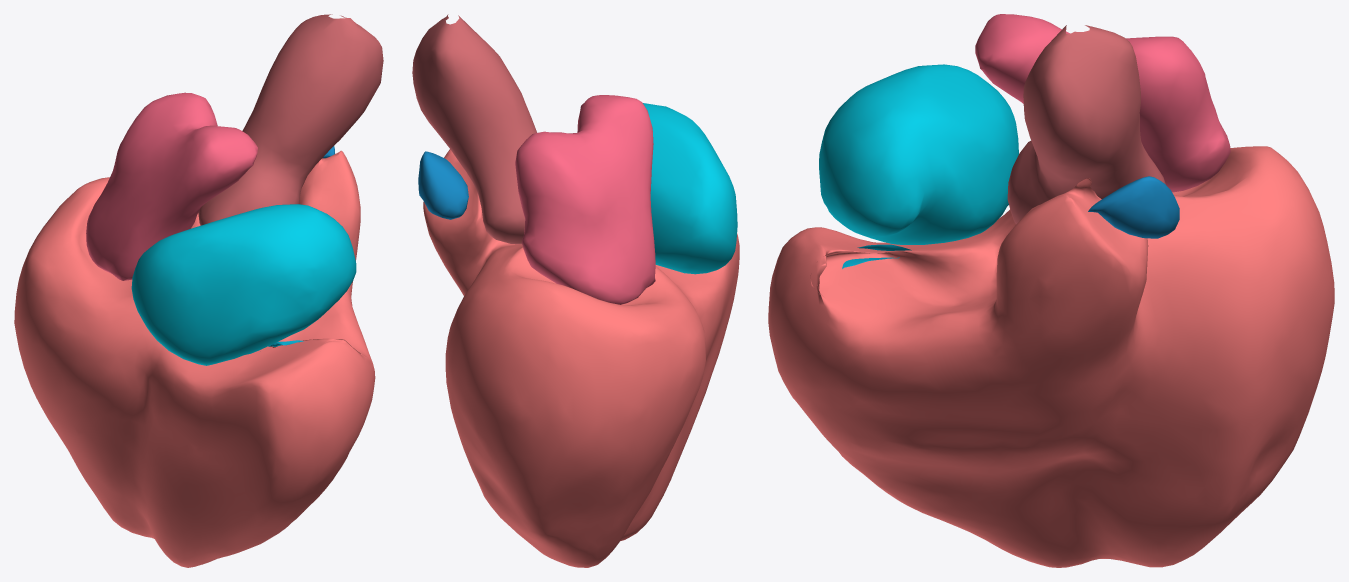
The model's file is frame_47.glb.
3 renders of one model, left to right at view 1: azimuth 30°, elevation 25°; view 2: azimuth 150°, elevation 25°; view 3: azimuth 270°, elevation 25°, orthographic. The views are drawn at different scales.
Parts seen in each view (by area): view 1: Renderer Node; view 2: Renderer Node; view 3: Renderer Node.
Boxes of the visible parts, <box> form: Renderer Node: <box>14,14,383,567</box>; Renderer Node: <box>412,14,739,567</box>; Renderer Node: <box>768,14,1334,567</box>.
Size of the model in its own units: 102 by 158 by 127.
